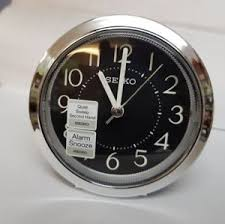alarm_clock: (22, 15, 216, 195), (22, 15, 212, 195), (27, 15, 212, 195)
